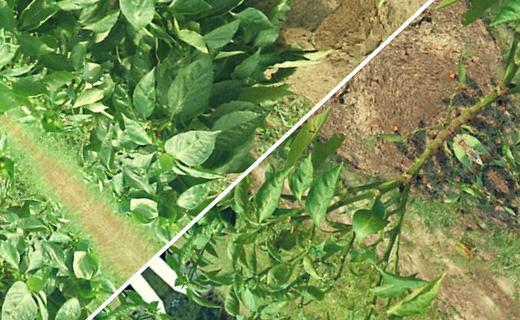Tomato leaf bacterial spot: (146, 49, 236, 138), (266, 103, 348, 182), (288, 152, 365, 227), (231, 157, 307, 231), (157, 106, 232, 180), (382, 259, 462, 320), (118, 59, 183, 123), (190, 5, 251, 65), (341, 192, 397, 246), (95, 0, 171, 35), (225, 0, 278, 44), (78, 0, 125, 47), (237, 281, 268, 313), (320, 308, 371, 320), (215, 0, 278, 8), (144, 0, 204, 8), (118, 0, 223, 3)
